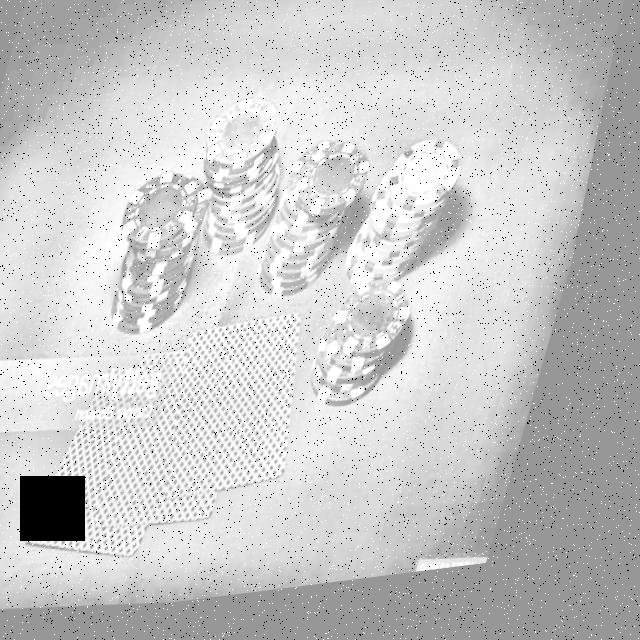Chip: (176, 82, 321, 278), (96, 158, 244, 348), (256, 141, 395, 317), (344, 140, 487, 311), (308, 272, 447, 431)
